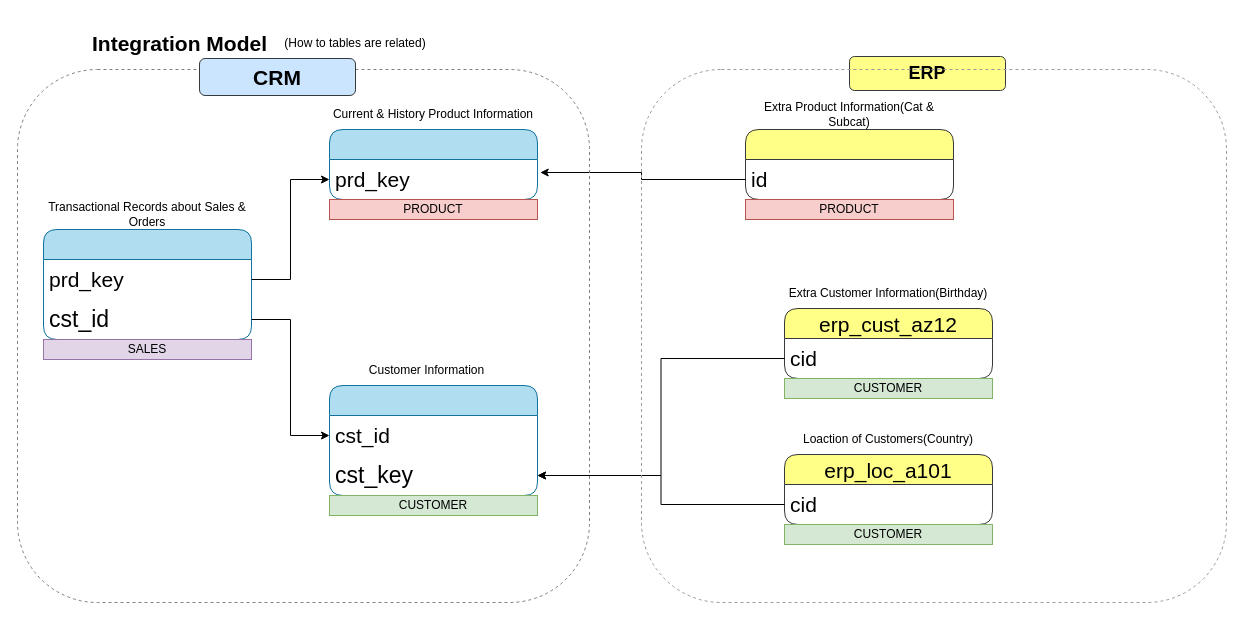
This 1244x620 diagram has some shape labels left out. The box of each missing label's shape, as (x1, y1, x2, y2) in pixels:
crm_cust_info: (328, 384, 538, 496)
crm_prd_info: (328, 128, 538, 200)
crm_sales_details: (42, 228, 252, 340)
erp_px_cat_g1v2: (744, 128, 954, 200)
